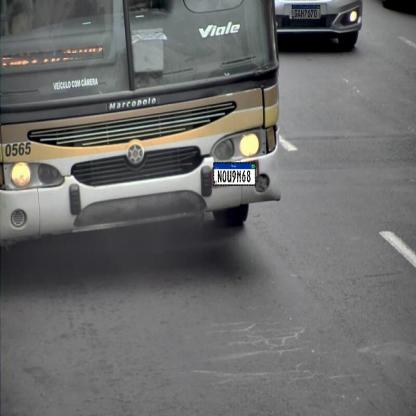PlacaM: (213, 162, 256, 186), (292, 5, 320, 19)
